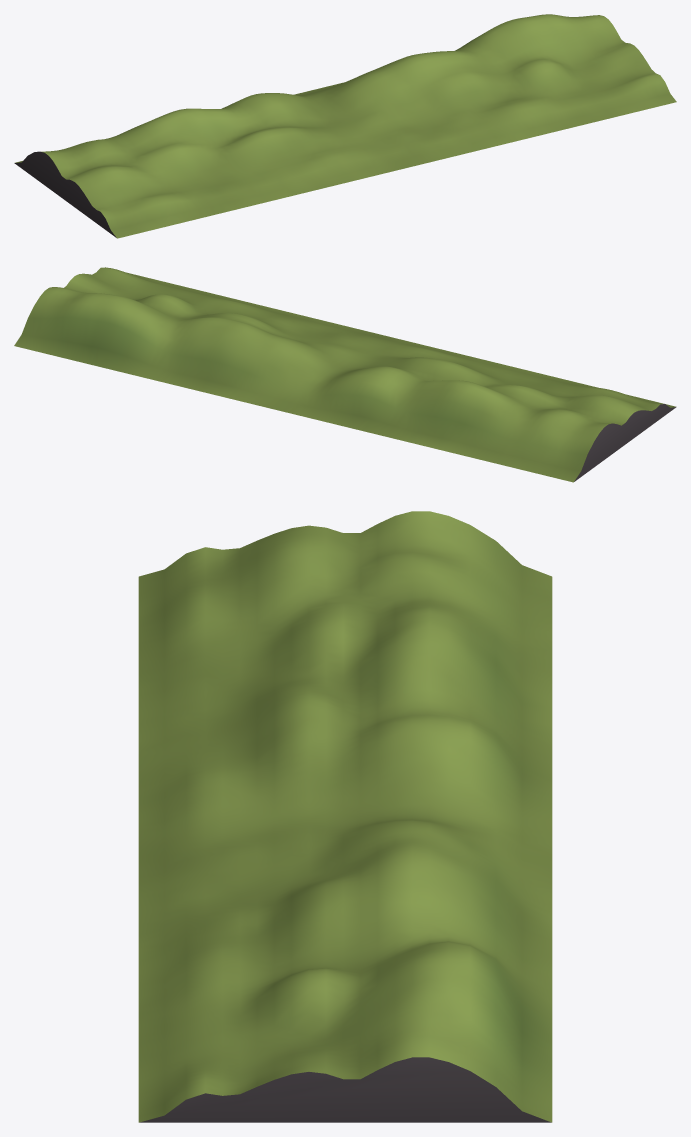
Rendered from HillsRolling.fbx.
The picture shows the model from 3 angles, top to bottom: view 1: azimuth 30°, elevation 25°; view 2: azimuth 150°, elevation 25°; view 3: azimuth 270°, elevation 25°; orthographic projection. The views are drawn at different scales.
Parts seen in each view (by area): view 1: HillsRolling; view 2: HillsRolling; view 3: HillsRolling.
Boxes of the visible parts, <box> form: HillsRolling: <box>14,14,676,238</box>; HillsRolling: <box>14,267,676,482</box>; HillsRolling: <box>138,511,552,1122</box>.
Bounding box in the file's own units: 300 × 22.83 × 96.
